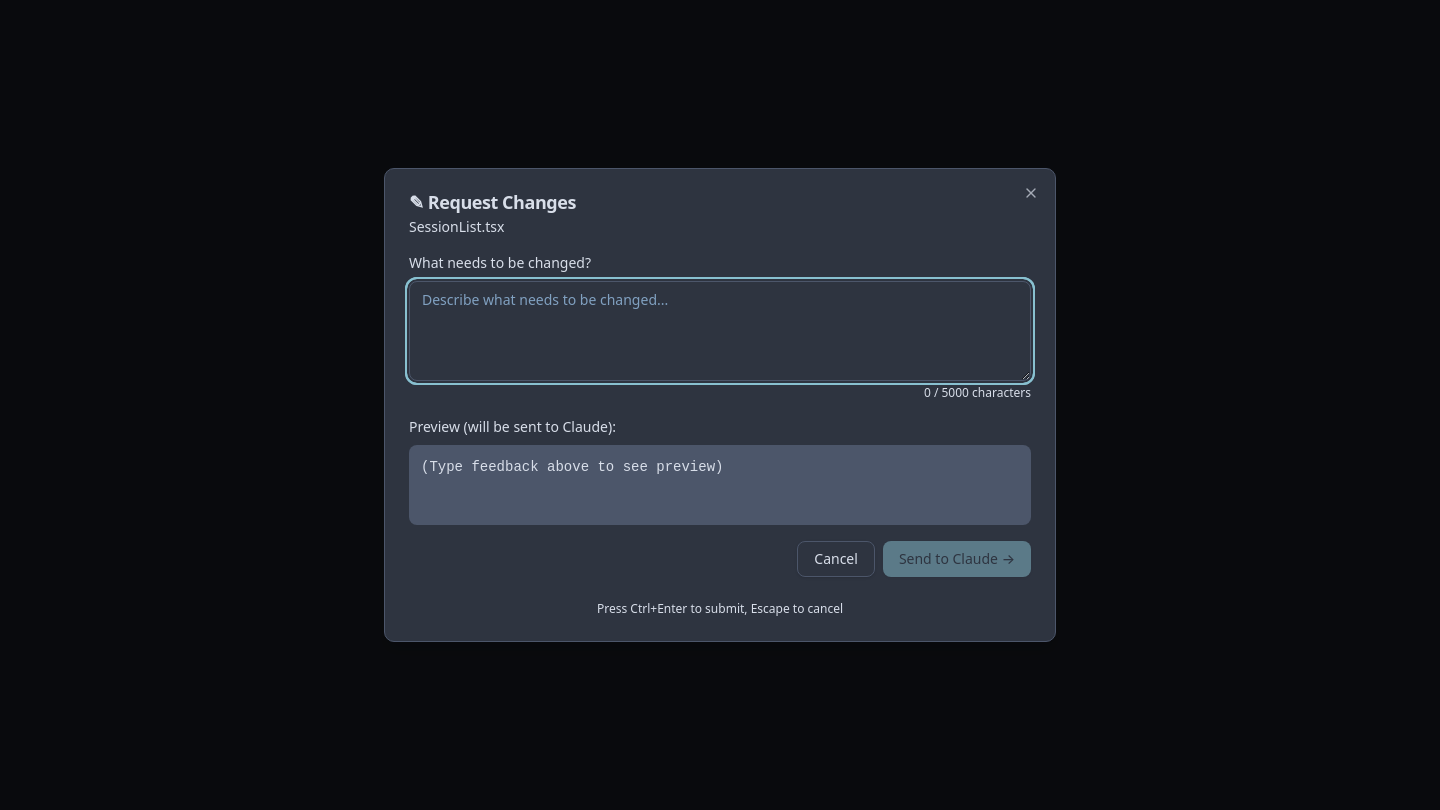
Test: RequestChangesModal › should enable submit button when feedback is provided
Check: the button "Send to Claude →" is disabled, box [883, 541, 1031, 577]
Type "Add error handling" into the text box with placeholder "Describe what needs to be changed..." at (720, 331), box [409, 281, 1031, 381]
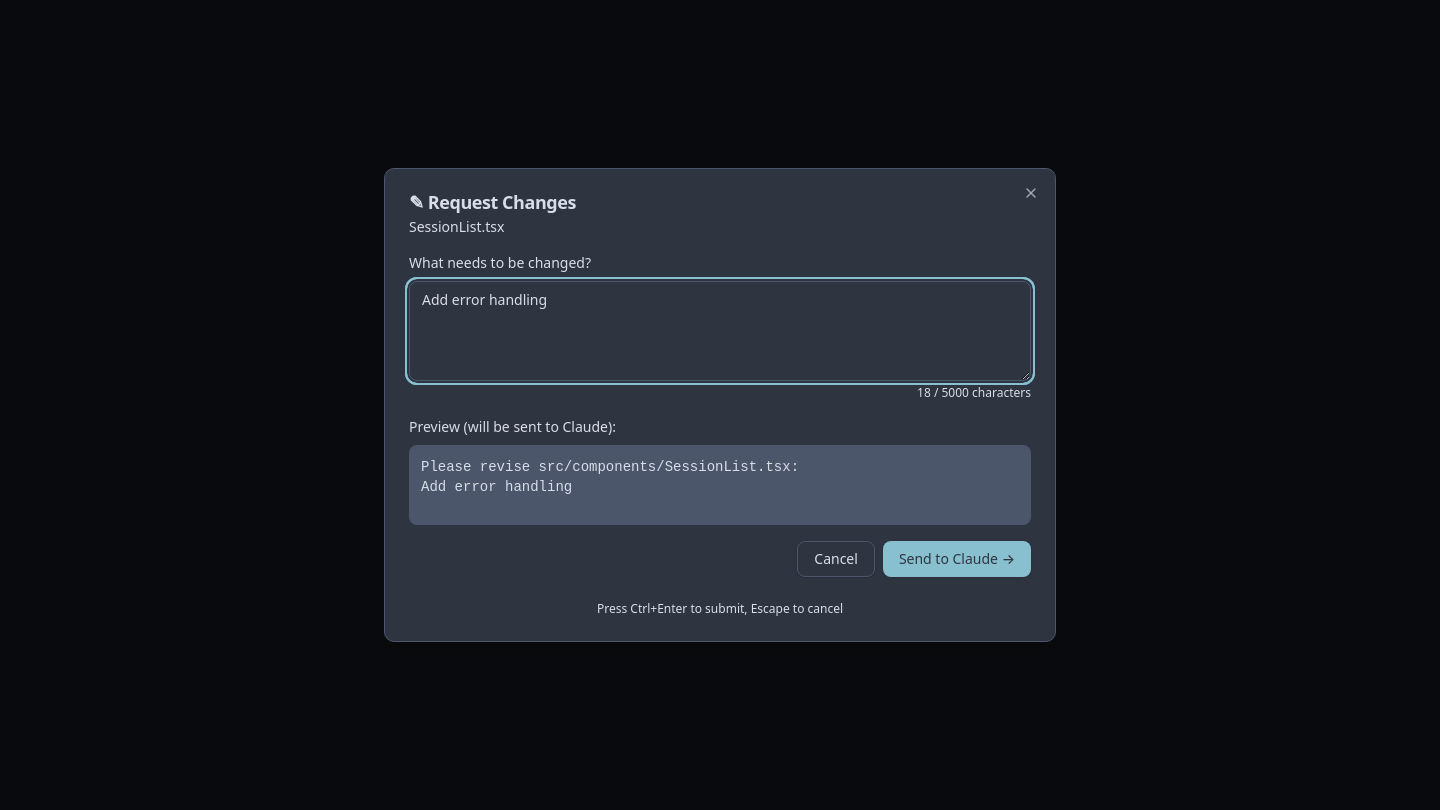
Check: the button "Send to Claude →" is enabled, box [883, 541, 1031, 577]
